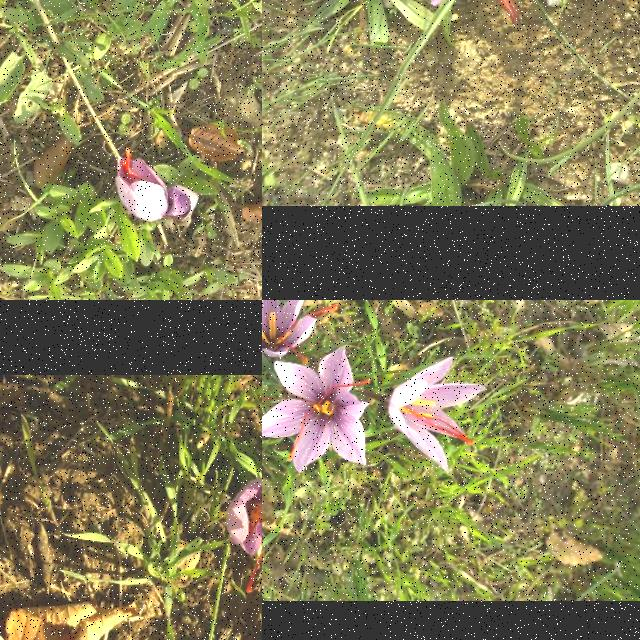flower: (262, 345, 372, 472), (387, 358, 487, 474), (117, 147, 199, 223), (262, 300, 338, 365), (225, 477, 262, 595)
